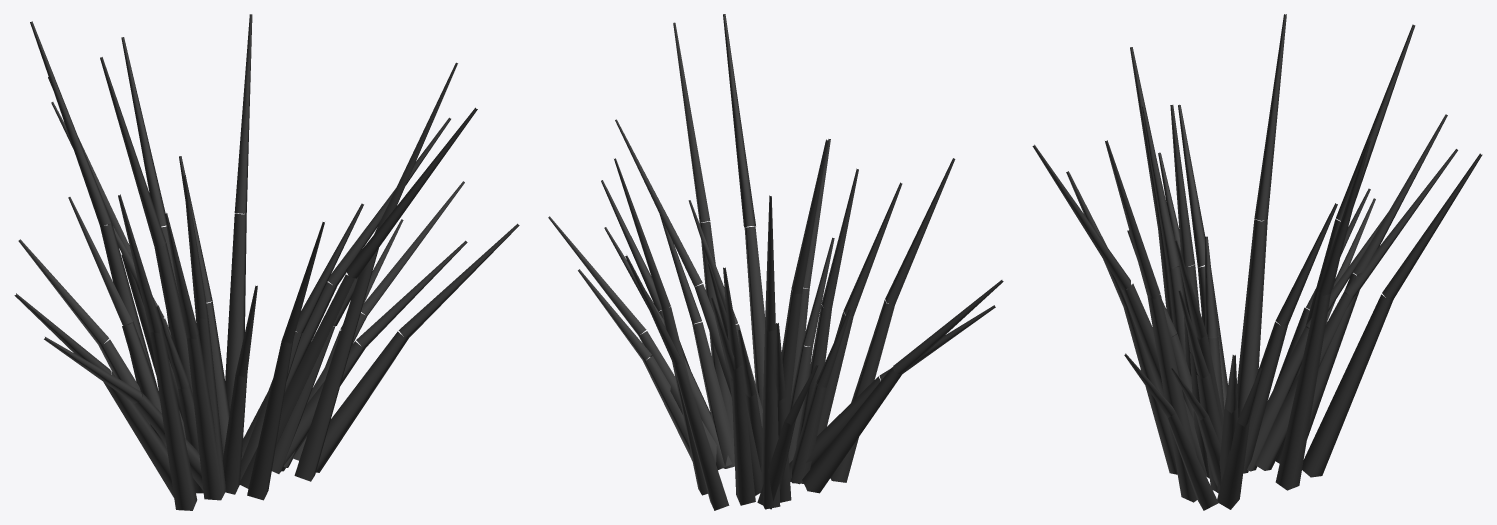
Rendered from taiga_sedge.glb.
3 views of the same model, side by side, from view 1: azimuth 30°, elevation 25°; view 2: azimuth 150°, elevation 25°; view 3: azimuth 270°, elevation 25° (orthographic). The views are drawn at different scales.
Visible parts, largest first — view 1: foliage; view 2: foliage; view 3: foliage.
Part boxes in pixels (x1,y1,x2,y2): foliage: (14,14,519,510); foliage: (548,14,1003,510); foliage: (1032,14,1482,510).
Bounding box in the file's own units: 1.11 × 0.9503 × 0.9352.
1 material, 1 textured.
